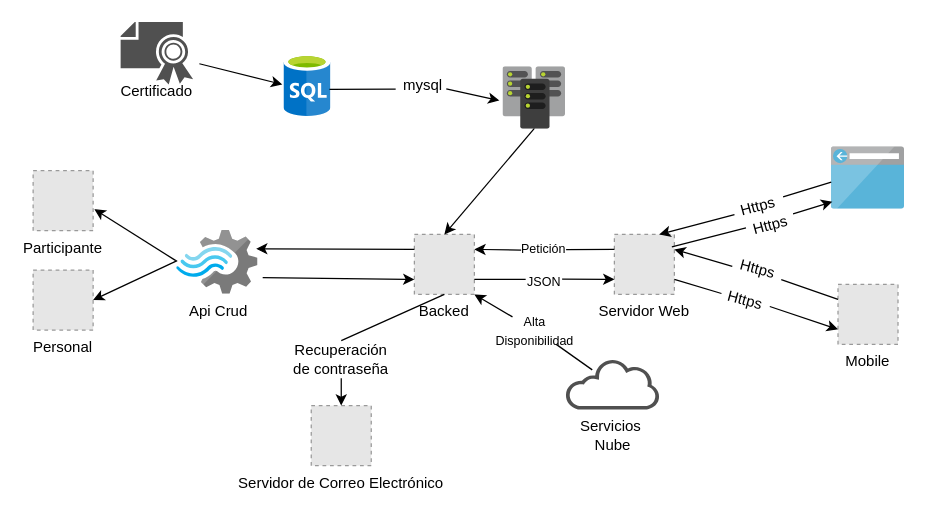
This 926x513 diagram has some shape labels left out. Grey dashed boxes stand in for pictures. Each missing label, with the centre of its shape:
Base de Datos: [307,85]
Desktop: [867,177]
Servidor de Base de Datos: [533,97]
